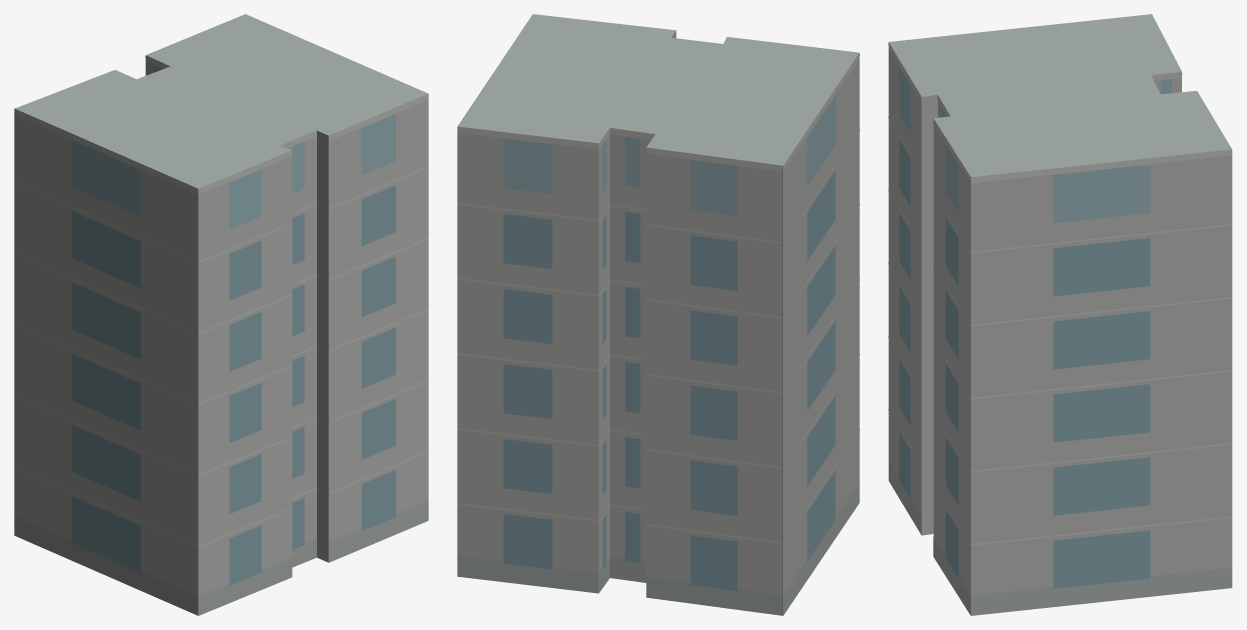
File: survey-upis-32595900.glb
The picture shows the model from 3 angles, left to right: view 1: azimuth 30°, elevation 25°; view 2: azimuth 150°, elevation 25°; view 3: azimuth 270°, elevation 25°; orthographic projection. The views are drawn at different scales.
Visible parts, largest first — view 1: survey-upis-32595900.tmp; view 2: survey-upis-32595900.tmp; view 3: survey-upis-32595900.tmp.
Part boxes in pixels (x1=…): survey-upis-32595900.tmp: x1=14, y1=14, x2=428, y2=615; survey-upis-32595900.tmp: x1=457, y1=14, x2=859, y2=615; survey-upis-32595900.tmp: x1=888, y1=14, x2=1232, y2=615.
Bounding box in the file's own units: 14 × 17.5 × 12.45.
